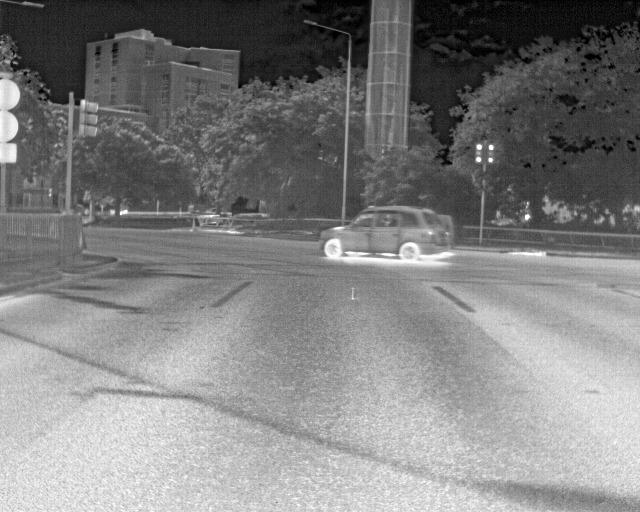car: (319, 206, 450, 263)
light: (83, 103, 98, 137), (487, 144, 494, 163), (476, 144, 482, 163), (48, 188, 52, 198)
sign: (0, 80, 21, 110), (0, 111, 18, 142), (0, 143, 17, 163)
